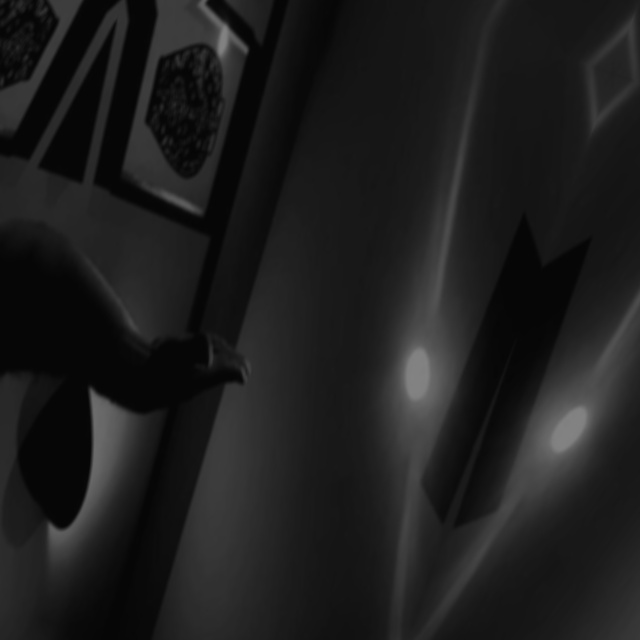Paper: (111, 269, 282, 457)
